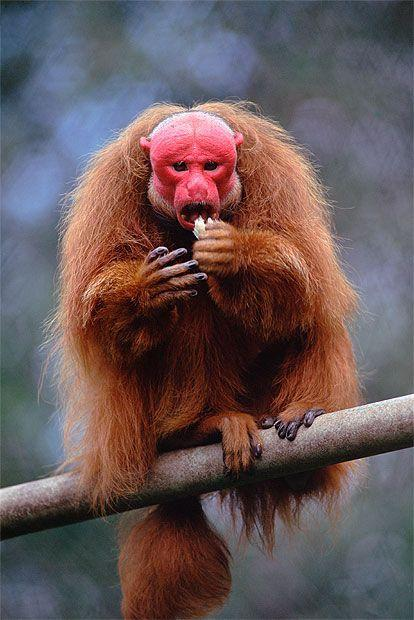monkey: (1, 101, 361, 535)
